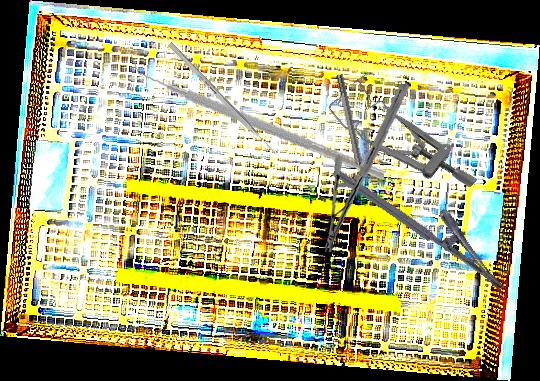Chopper: (130, 11, 385, 217)
Fixation Ring: (331, 72, 373, 187)
Needle Holder: (331, 143, 522, 294), (311, 83, 421, 253)
Pusher: (167, 41, 282, 161)
Speculum: (325, 62, 480, 224)
